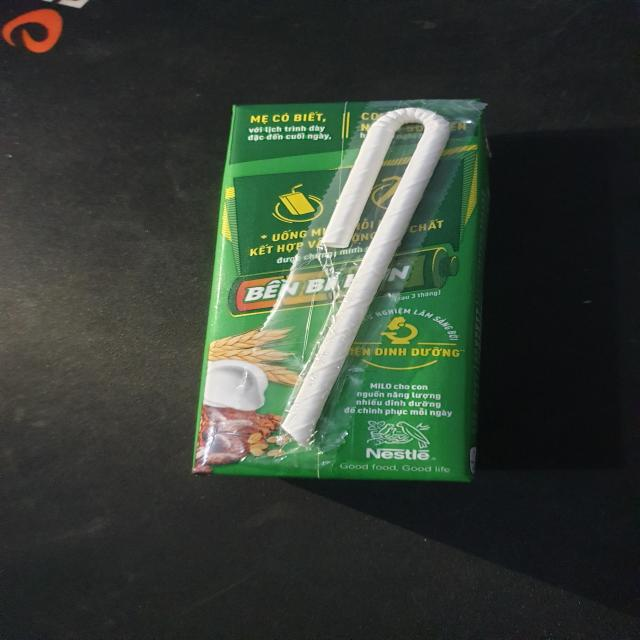Milo: (196, 101, 498, 485)
